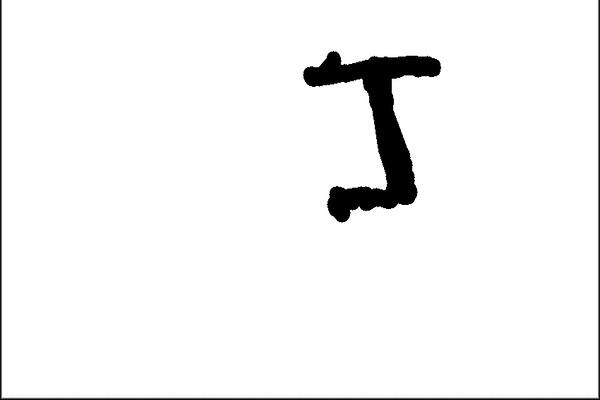J: (298, 42, 448, 230)
